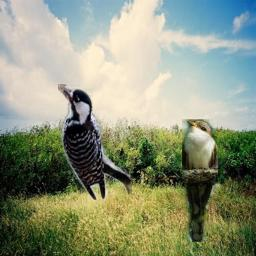Cuckoo: (182, 119, 218, 242)
Woodpecker: (58, 84, 132, 200)
